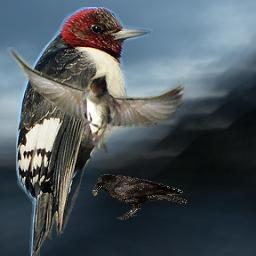Crow: (91, 174, 187, 220)
Swallow: (7, 47, 188, 155)
Woodpecker: (16, 7, 153, 256)
